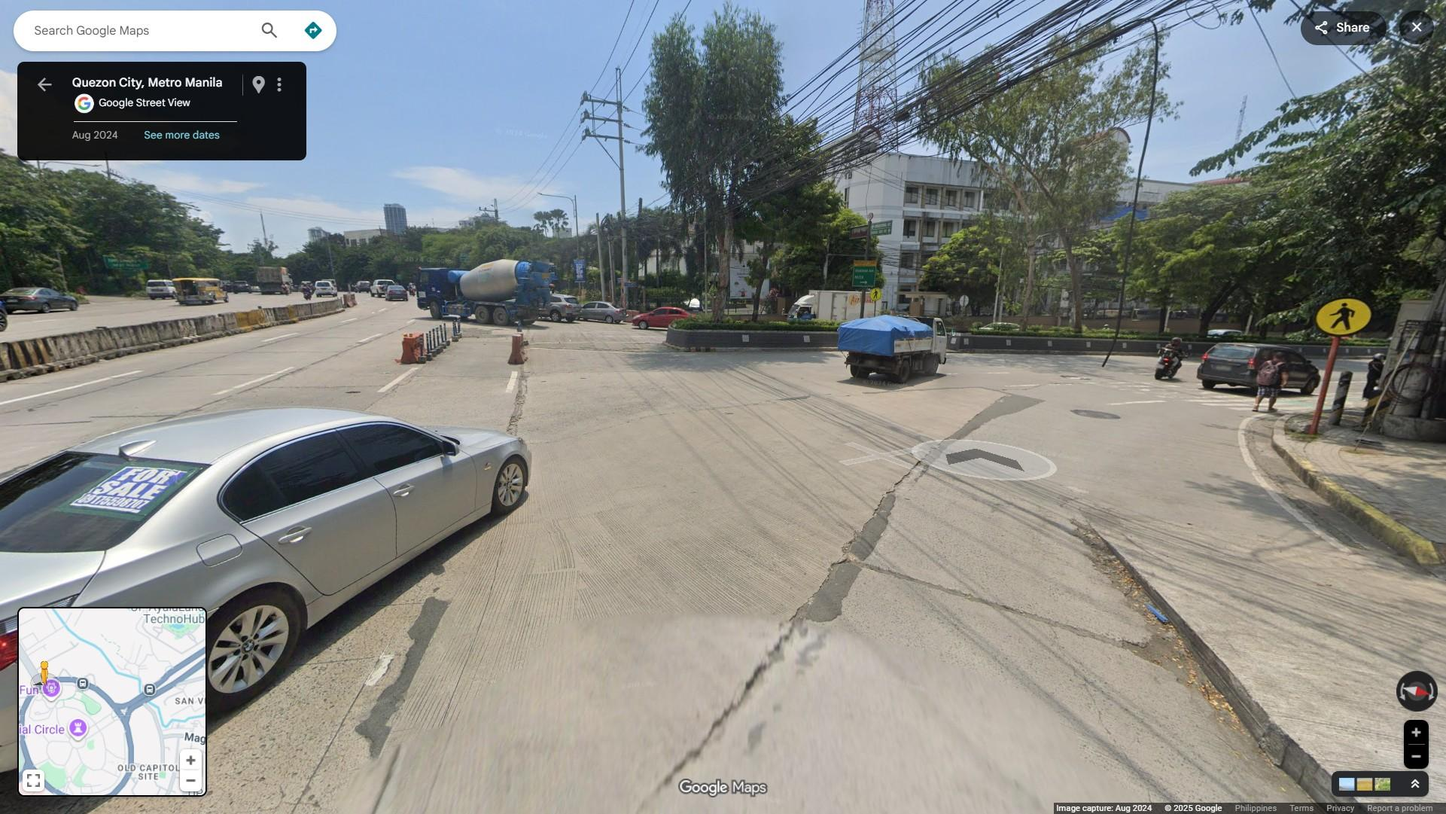pedestrian: (1252, 351, 1288, 412), (1362, 351, 1387, 402)
